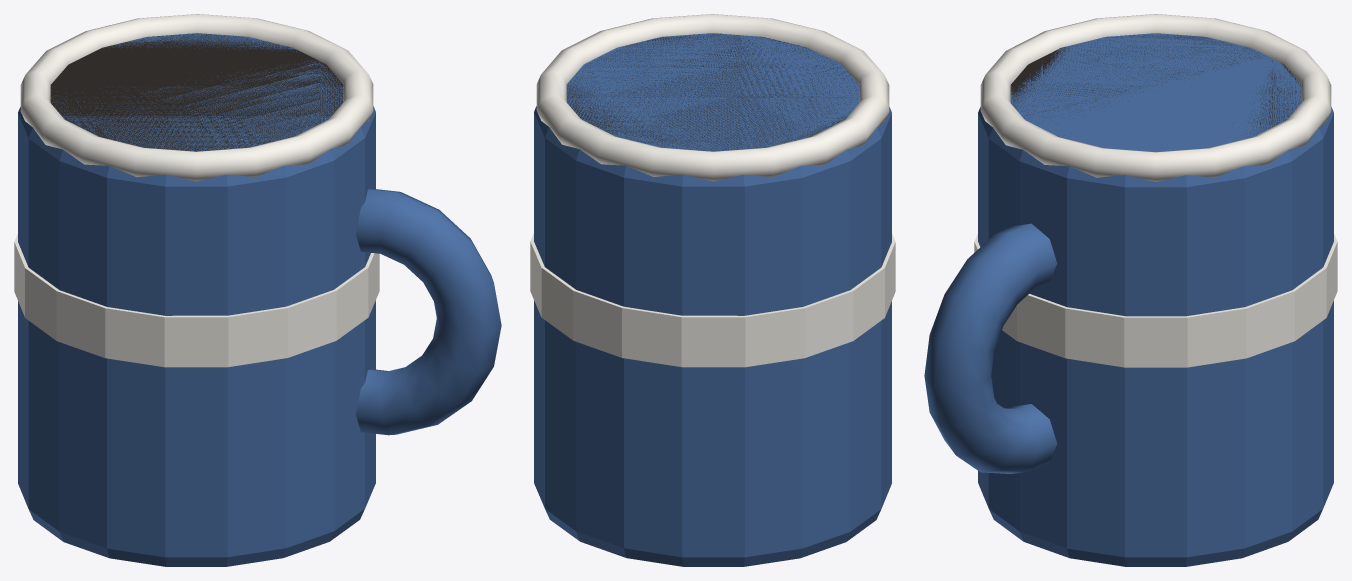
File: hh_cat_mug.glb
3 views of the same model, side by side, from view 1: azimuth 30°, elevation 25°; view 2: azimuth 150°, elevation 25°; view 3: azimuth 270°, elevation 25° (orthographic).
Visible parts, largest first — view 1: body, coffee, handle, rim, stripe; view 2: body, rim, stripe, coffee; view 3: body, handle, rim, stripe, coffee.
Boxes of the visible parts, left/top/right/bottom form: body: left=18, top=33, right=375, bottom=566; coffee: left=50, top=33, right=343, bottom=151; handle: left=355, top=188, right=501, bottom=435; rim: left=20, top=14, right=373, bottom=181; stripe: left=14, top=233, right=379, bottom=367; body: left=534, top=33, right=891, bottom=566; rim: left=536, top=14, right=889, bottom=181; stripe: left=530, top=233, right=895, bottom=367; coffee: left=566, top=33, right=858, bottom=150; body: left=978, top=33, right=1333, bottom=566; handle: left=924, top=223, right=1057, bottom=473; rim: left=980, top=14, right=1331, bottom=181; stripe: left=974, top=233, right=1337, bottom=367; coffee: left=1010, top=34, right=1301, bottom=136.
Size of the model in its own units: 0.09 by 0.1 by 0.09.
